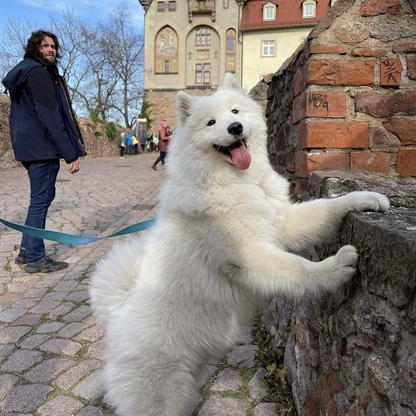samoyed: (79, 66, 393, 416)
